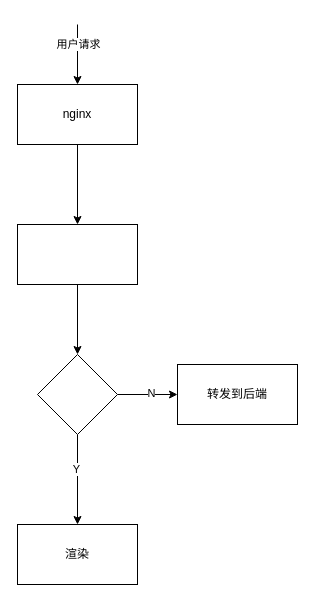
Image size: 315x602. Some labels were removed from this diagram. The centre of each missing label's shape, as x and y in pixels:
"A项目" belongs at pixel 77 254.
"匹配到路由？" belongs at pixel 77 394.
